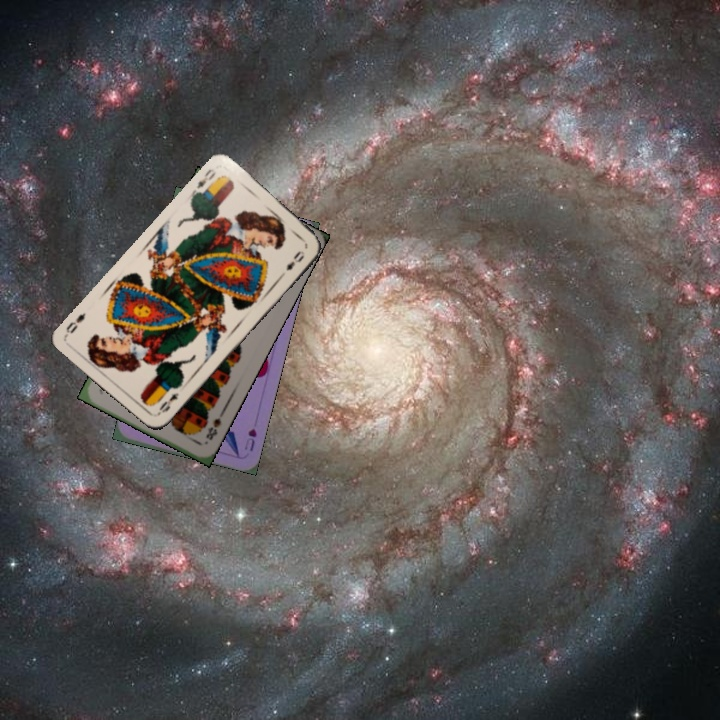EO: (188, 165, 222, 198), (153, 389, 182, 418)
HU: (240, 424, 259, 454)
S8: (202, 409, 226, 443)
